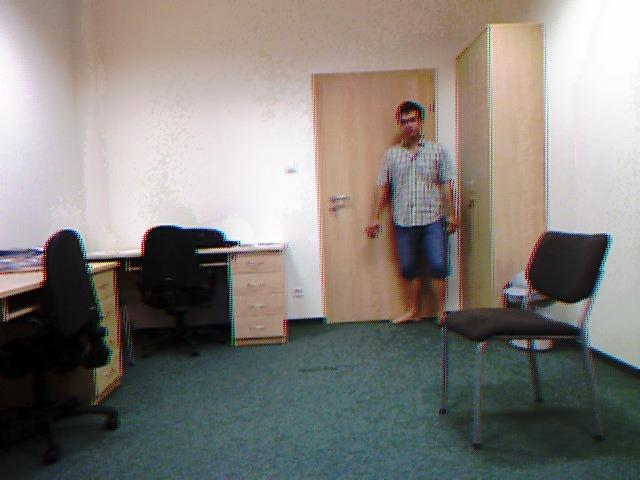standing: (368, 94, 475, 323)
